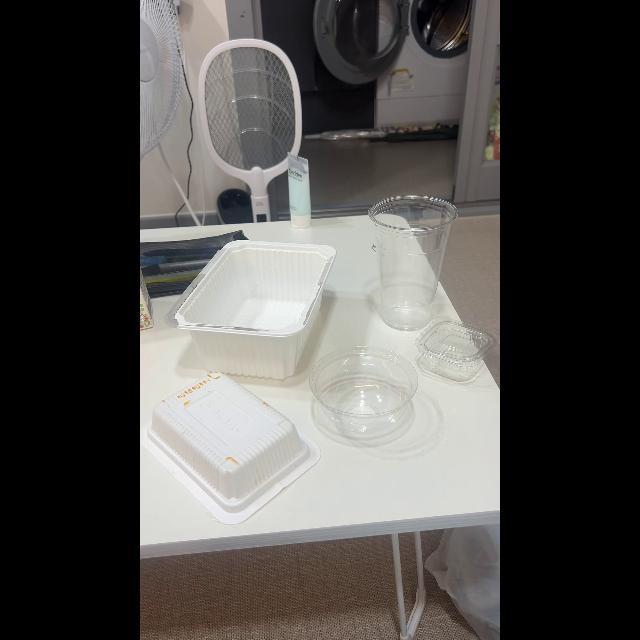clean: (174, 245, 329, 364), (371, 198, 433, 326), (314, 357, 418, 431), (422, 330, 492, 382)
dirty: (160, 372, 302, 494)
